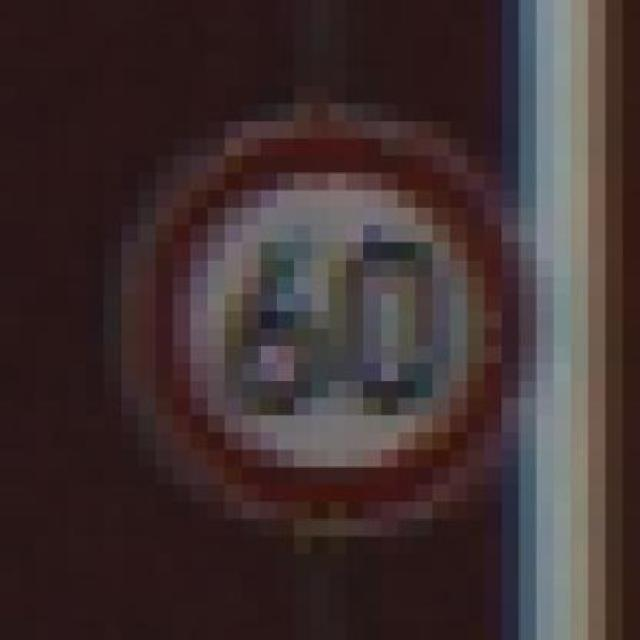forb_speed_over_60: (154, 127, 517, 524)
